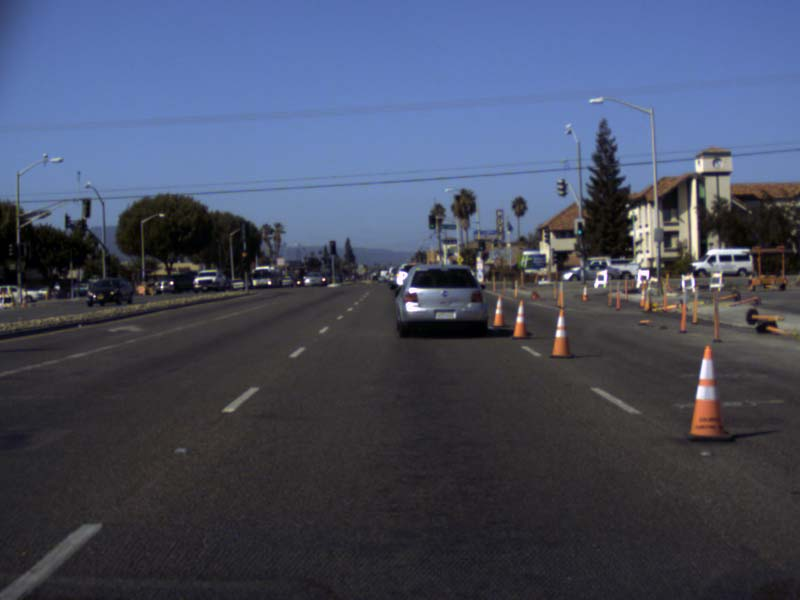Green: (428, 214, 435, 229), (577, 222, 583, 235), (478, 239, 484, 250)
Red: (239, 249, 249, 270), (329, 240, 335, 254)
